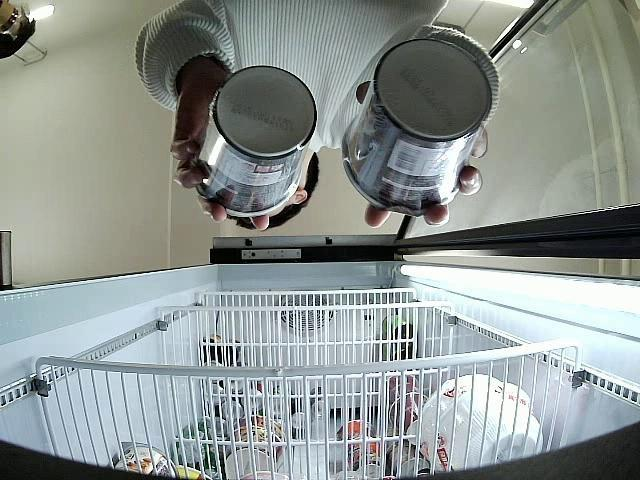08_buldak_S: (343, 36, 492, 217), (196, 64, 319, 216)
